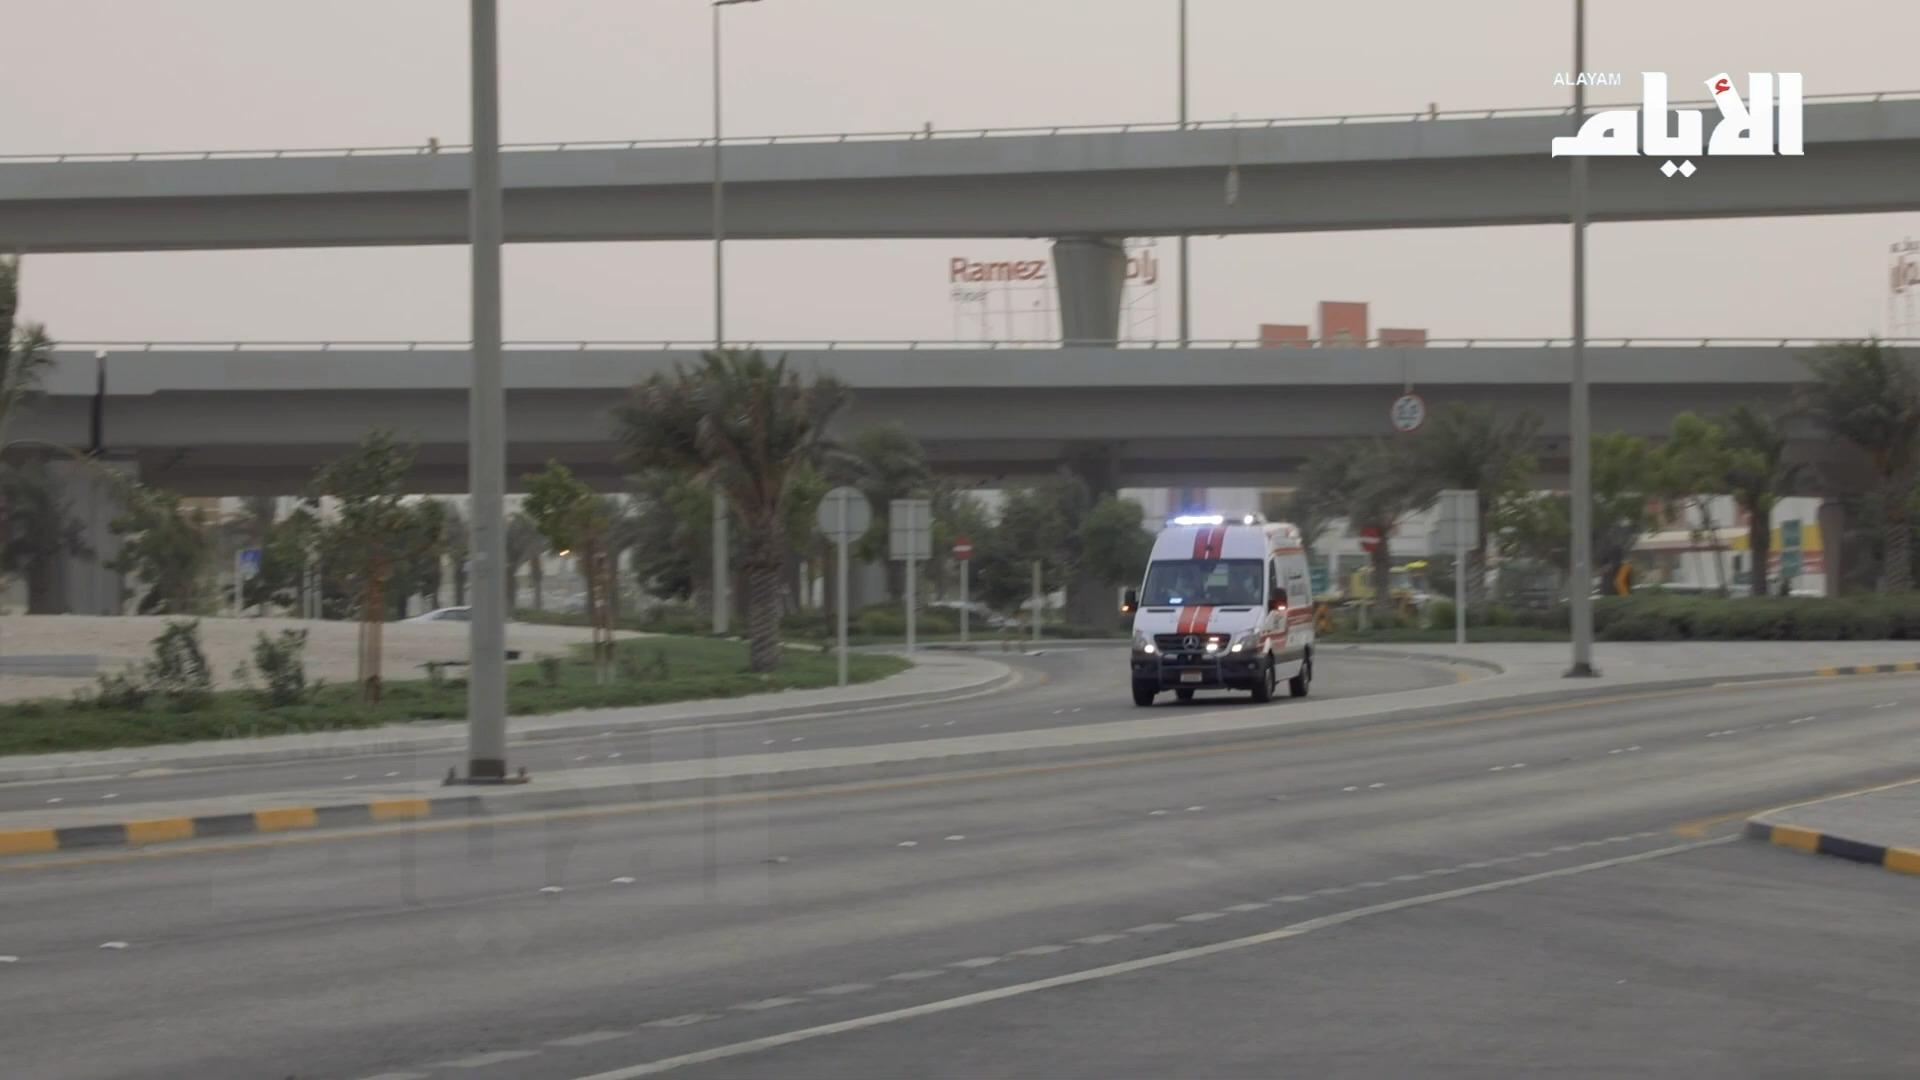ambulance_on: (1117, 514, 1316, 705)
